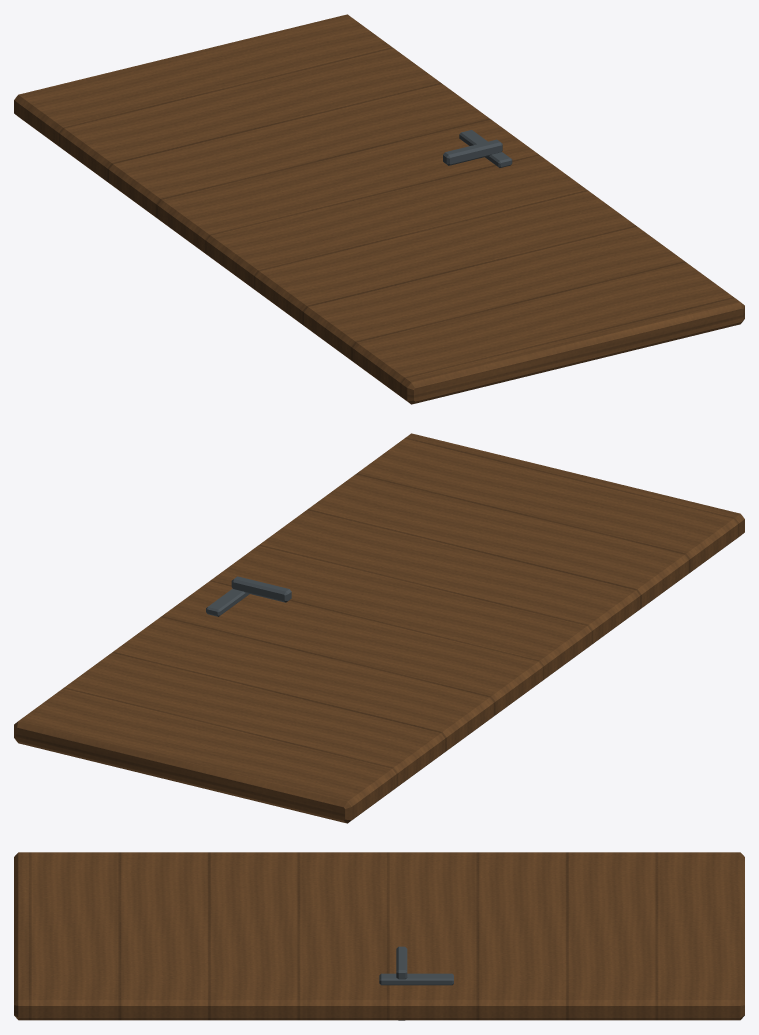
Rendered from door_leaf_16.obj.
3 views of the same model, one above another, from view 1: azimuth 30°, elevation 25°; view 2: azimuth 150°, elevation 25°; view 3: azimuth 270°, elevation 25° (orthographic). The views are drawn at different scales.
Visible parts, largest first — view 1: leaf_oak, leaf_metal; view 2: leaf_oak, leaf_metal; view 3: leaf_oak, leaf_metal.
Boxes of the visible parts, box(x1,y1,x2,y2) form: leaf_oak: box(14, 14, 744, 404); leaf_metal: box(443, 130, 512, 167); leaf_oak: box(14, 433, 744, 823); leaf_metal: box(206, 576, 291, 616); leaf_oak: box(14, 852, 744, 1020); leaf_metal: box(379, 946, 453, 1020).
Bounding box in the file's own units: 48 × 7.5 × 98.
3 materials, 3 textured.
